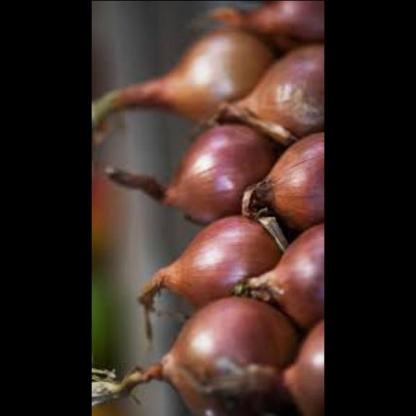onion: (139, 288, 293, 416), (140, 0, 288, 118), (146, 106, 292, 218), (146, 219, 297, 308), (217, 36, 324, 143), (238, 129, 323, 230), (242, 226, 323, 324), (262, 321, 324, 414)
